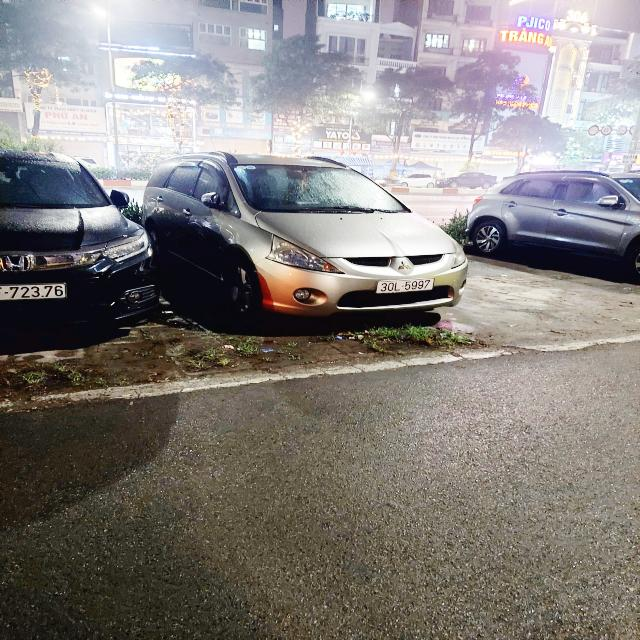license_plate: (3, 284, 69, 301), (377, 277, 437, 295)
